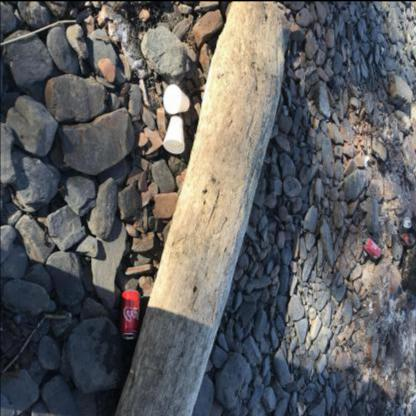Can: (120, 288, 140, 338), (362, 236, 380, 258), (398, 230, 416, 245), (401, 215, 411, 230)
Cup: (162, 115, 184, 153), (163, 83, 189, 113)
Pop tab: (364, 237, 367, 242)
Unlabeled litter: (364, 154, 370, 166)
